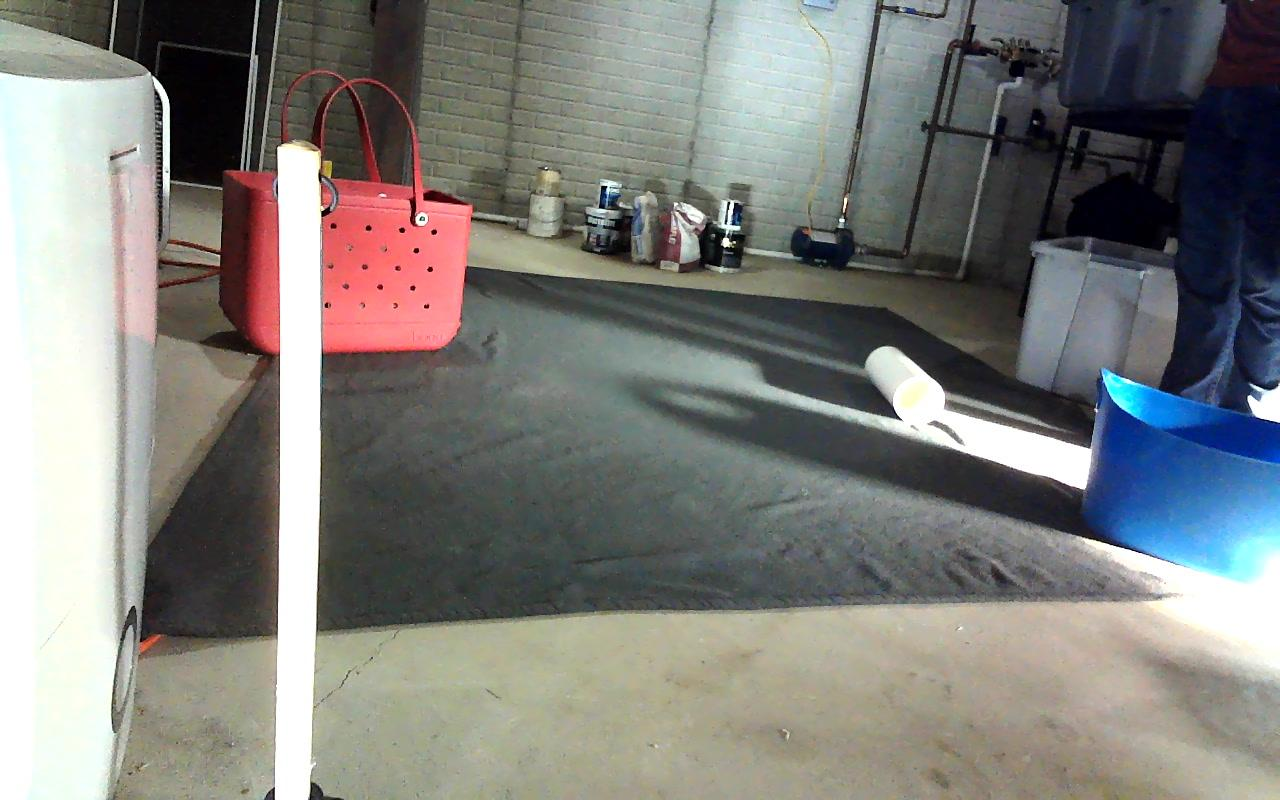coral: (865, 345, 945, 420)
